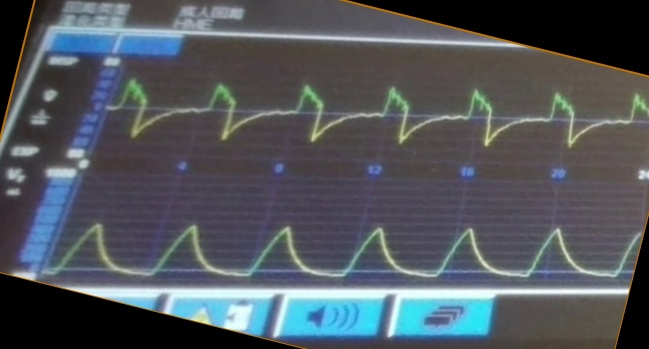Accumulation Flow: (120, 72, 609, 159)
Volume: (73, 199, 625, 285)
